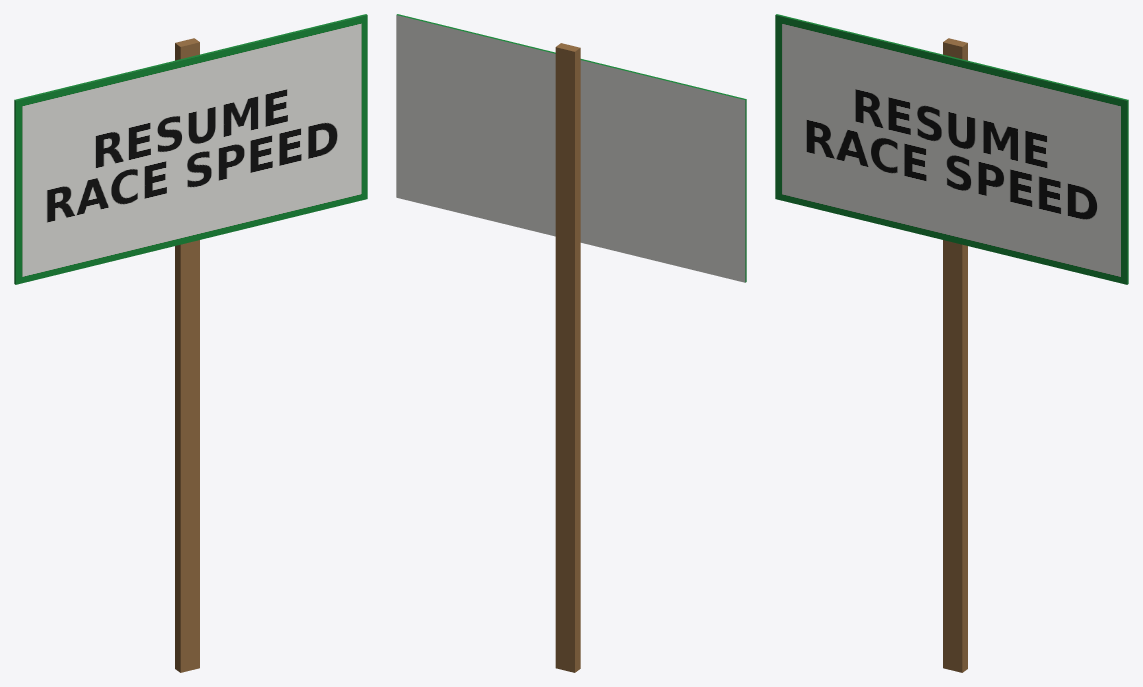
Rendered from sign_zone_end.dae.
3 views of the same model, side by side, from view 1: azimuth 30°, elevation 25°; view 2: azimuth 150°, elevation 25°; view 3: azimuth 330°, elevation 25° (orthographic).
Visible parts, largest first — view 1: marker; view 2: marker; view 3: marker.
Boxes of the visible parts, x1,y1,x2,y2 form: marker: [14, 14, 367, 672]; marker: [396, 14, 746, 672]; marker: [775, 14, 1128, 672].
Size of the model in its own units: 0.9 by 0.031 by 1.53.
1 material, 1 textured.
